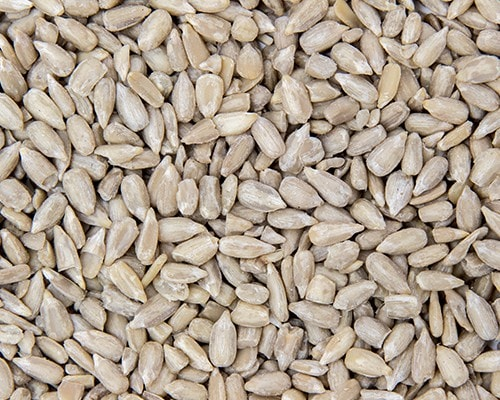seed: (1, 1, 500, 400)
